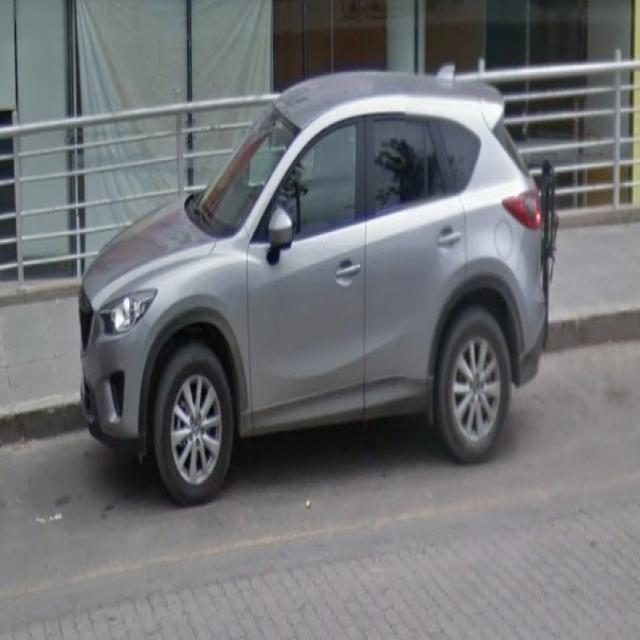cars: (76, 72, 554, 509)
